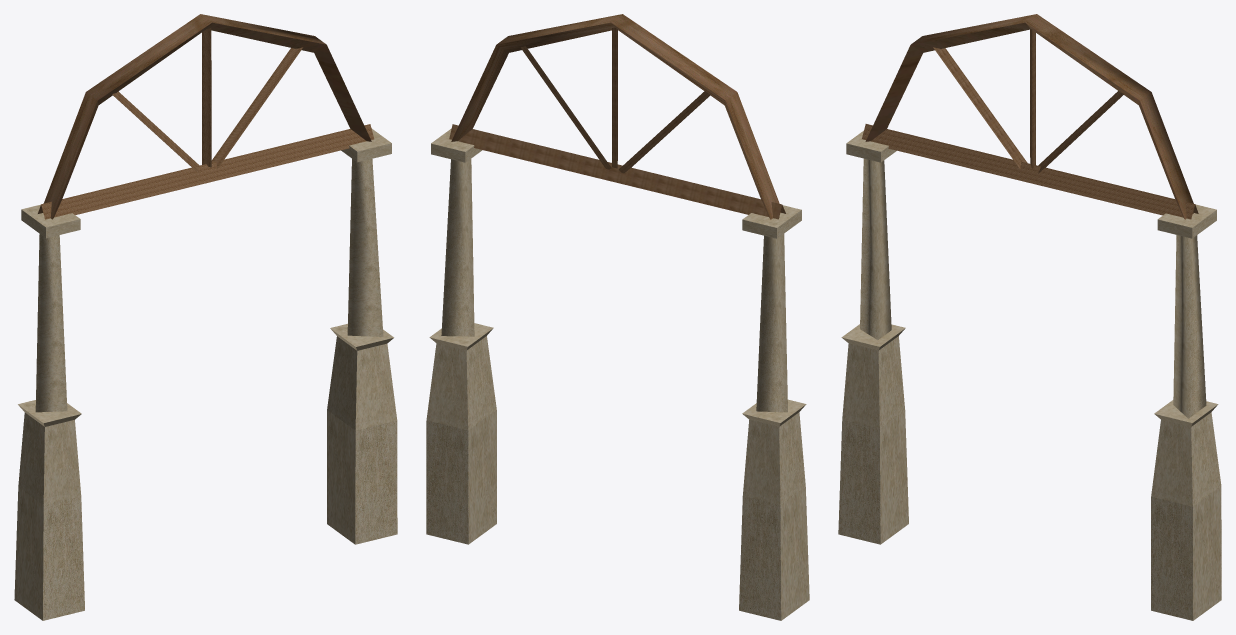
File: thm_nboo_imprv_arbor_pillar_s01_l1.fbx
3 renders of one model, left to right at view 1: azimuth 30°, elevation 25°; view 2: azimuth 150°, elevation 25°; view 3: azimuth 330°, elevation 25°, orthographic.
Visible parts, largest first — view 1: mesh_node; view 2: mesh_node; view 3: mesh_node.
Part boxes in pixels (left/top/right/bottom): mesh_node: left=14, top=14, right=397, bottom=620; mesh_node: left=426, top=14, right=809, bottom=620; mesh_node: left=838, top=14, right=1221, bottom=620.
Size of the model in its own units: 3.97 by 5.86 by 0.5532.
2 materials, 2 textured.
